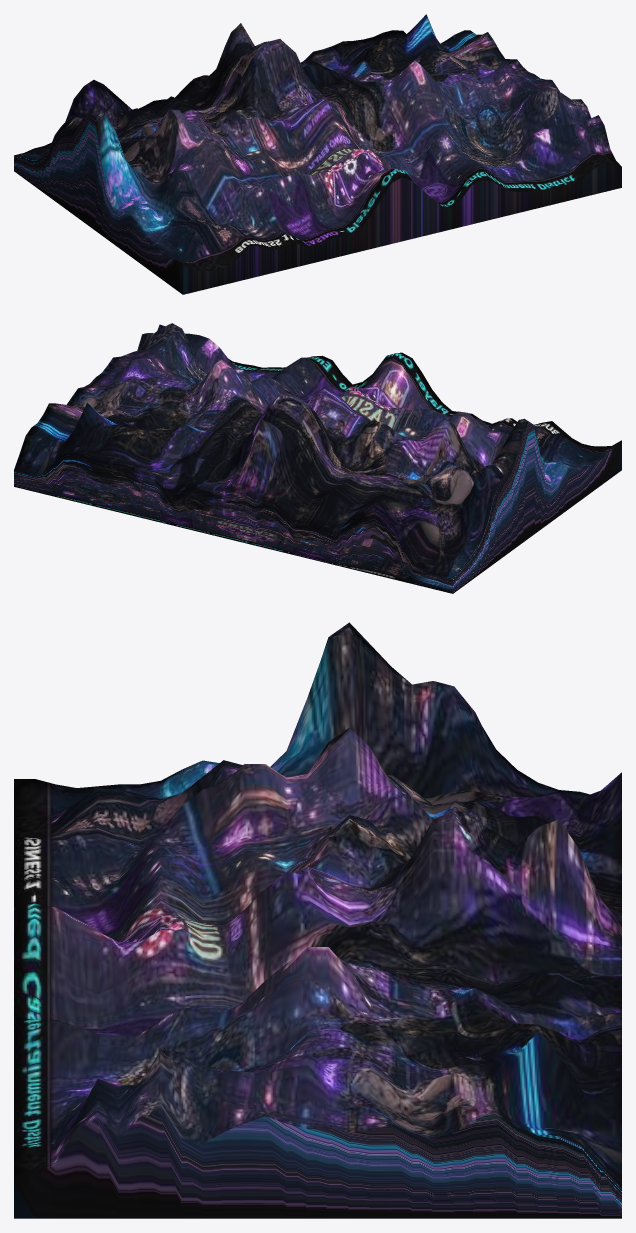
Rendered from BUSINESS_11_Casino.glb.
3 views of the same model, one above another, from view 1: azimuth 30°, elevation 25°; view 2: azimuth 150°, elevation 25°; view 3: azimuth 270°, elevation 25° (orthographic). The views are drawn at different scales.
Visible parts, largest first — view 1: BUSINESS_11_Casino; view 2: BUSINESS_11_Casino; view 3: BUSINESS_11_Casino.
Part boxes in pixels (x1,y1,x2,y2): BUSINESS_11_Casino: (14,14,621,294); BUSINESS_11_Casino: (14,323,621,593); BUSINESS_11_Casino: (14,622,621,1218).
Size of the model in its own units: 2 by 0.51 by 1.33.
1 material, 1 textured.
